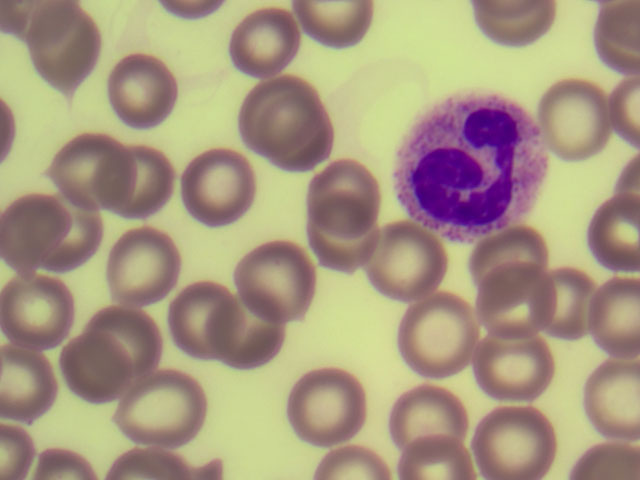RBC: (472, 406, 554, 480), (242, 247, 317, 319), (408, 292, 476, 371), (475, 325, 549, 397), (211, 294, 278, 372), (127, 374, 207, 439), (37, 4, 91, 100), (541, 84, 610, 159), (172, 280, 235, 362), (316, 160, 378, 241), (480, 270, 552, 339), (101, 150, 170, 221), (67, 137, 136, 207), (184, 153, 250, 226), (267, 96, 330, 172), (96, 307, 163, 378), (58, 334, 131, 399), (115, 232, 180, 305), (8, 272, 68, 350), (231, 10, 301, 76), (394, 392, 461, 458), (293, 371, 357, 440), (3, 199, 60, 275), (317, 201, 376, 274), (379, 229, 442, 297), (116, 59, 177, 129), (479, 233, 546, 295), (582, 363, 640, 431), (1, 346, 51, 421), (551, 262, 597, 339), (476, 1, 551, 48), (297, 1, 379, 43), (402, 432, 473, 480), (51, 196, 98, 267), (119, 450, 230, 480), (595, 5, 640, 78), (597, 283, 640, 356), (591, 204, 640, 267), (319, 446, 392, 480), (574, 443, 640, 480), (608, 81, 640, 140), (38, 450, 97, 480), (1, 423, 24, 478), (620, 152, 640, 212), (173, 1, 225, 21), (1, 99, 15, 162), (1, 1, 24, 39)
WBC: (406, 104, 546, 229)
